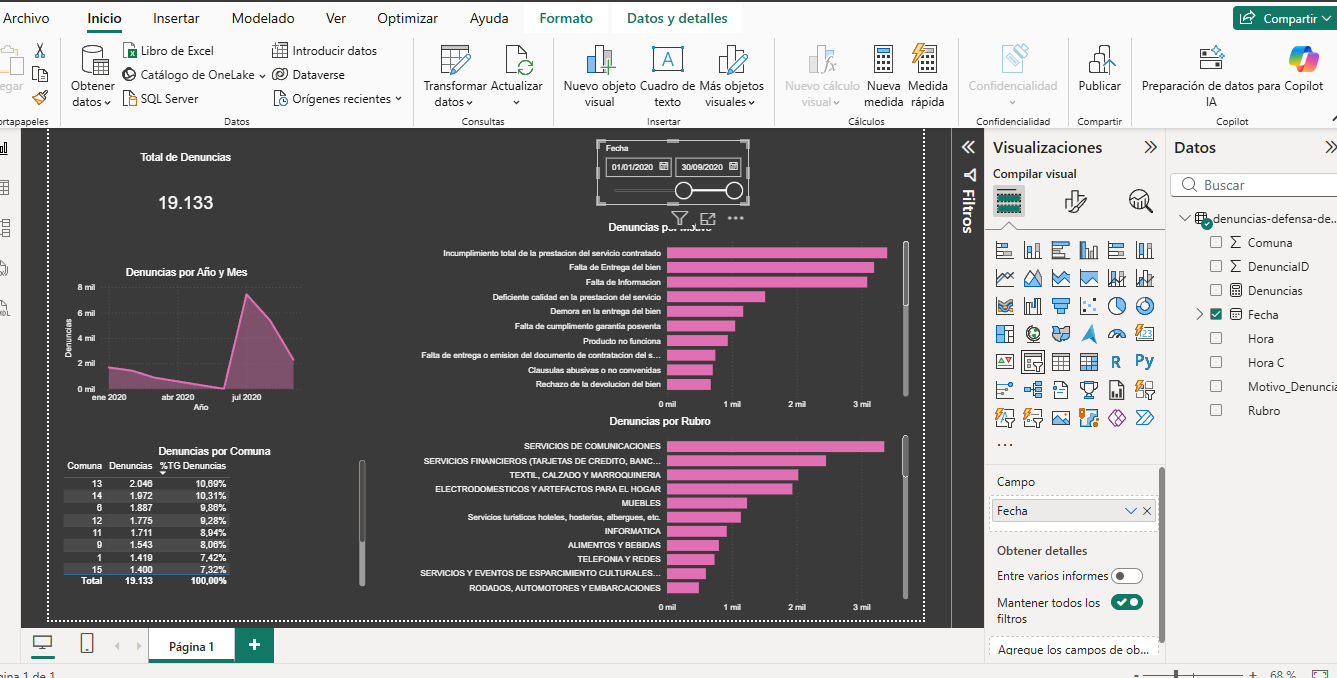

The page's visual inventory and layout, read from the dashboard file:
{"tool":"powerbi","page":{"name":"Página 1","canvas":[1280,720],"ordinal":0},"visuals":[{"type":"card","title":"Total de Denuncias","fields":{"Values":["denuncias-defensa-del-consumidor.Denuncias"]},"box":[51.2,33.7,297.1,134.6],"z":0},{"type":"areaChart","fields":{"Category":["denuncias-defensa-del-consumidor.Fecha.Variación.Jerarquía de fechas.Año","denuncias-defensa-del-consumidor.Fecha.Variación.Jerarquía de fechas.Mes"],"Y":["denuncias-defensa-del-consumidor.Denuncias"]},"box":[17.3,201.6,367.2,218.9],"z":1000},{"type":"barChart","title":"Denuncias por Motivo","fields":{"Y":["denuncias-defensa-del-consumidor.Denuncias"],"Category":["denuncias-defensa-del-consumidor.Motivo_Denuncia"]},"box":[525.4,136.1,737.6,283.9],"z":2000},{"type":"barChart","fields":{"Y":["denuncias-defensa-del-consumidor.Denuncias"],"Category":["denuncias-defensa-del-consumidor.Rubro"]},"box":[525.6,420.5,737.3,296.6],"z":3000},{"type":"tableEx","title":"Denuncias por Comuna","fields":{"Values":["denuncias-defensa-del-consumidor.Comuna","denuncias-defensa-del-consumidor.Denuncias","Divide(denuncias-defensa-del-consumidor.Denuncias, ScopedEval(denuncias-defensa-del-consumidor.Denuncias, []))"]},"box":[16.8,463.6,451.9,211.7],"z":4000},{"type":"slicer","fields":{"Values":["denuncias-defensa-del-consumidor.Fecha"]},"box":[802,17.6,222.4,95.1],"z":5000}]}

Visuals, with their boxes on the page's 1280x720 design canvas (x1, y1, x2, y2). These are canvas units, not pixel positions in the 1337x678 screenshot, which may show the page scaled, cropped or inside an application window:
"Total de Denuncias" card: (51, 34, 348, 168)
areaChart - denuncias-defensa-del-consumidor.Fecha.Variación.Jerarquía de fechas.Año x denuncias-defensa-del-consumidor.Fecha.Variación.Jerarquía de fechas.Mes: (17, 202, 384, 420)
"Denuncias por Motivo" barChart: (525, 136, 1263, 420)
barChart - denuncias-defensa-del-consumidor.Denuncias x denuncias-defensa-del-consumidor.Rubro: (526, 420, 1263, 717)
"Denuncias por Comuna" tableEx: (17, 464, 469, 675)
slicer - denuncias-defensa-del-consumidor.Fecha: (802, 18, 1024, 113)
